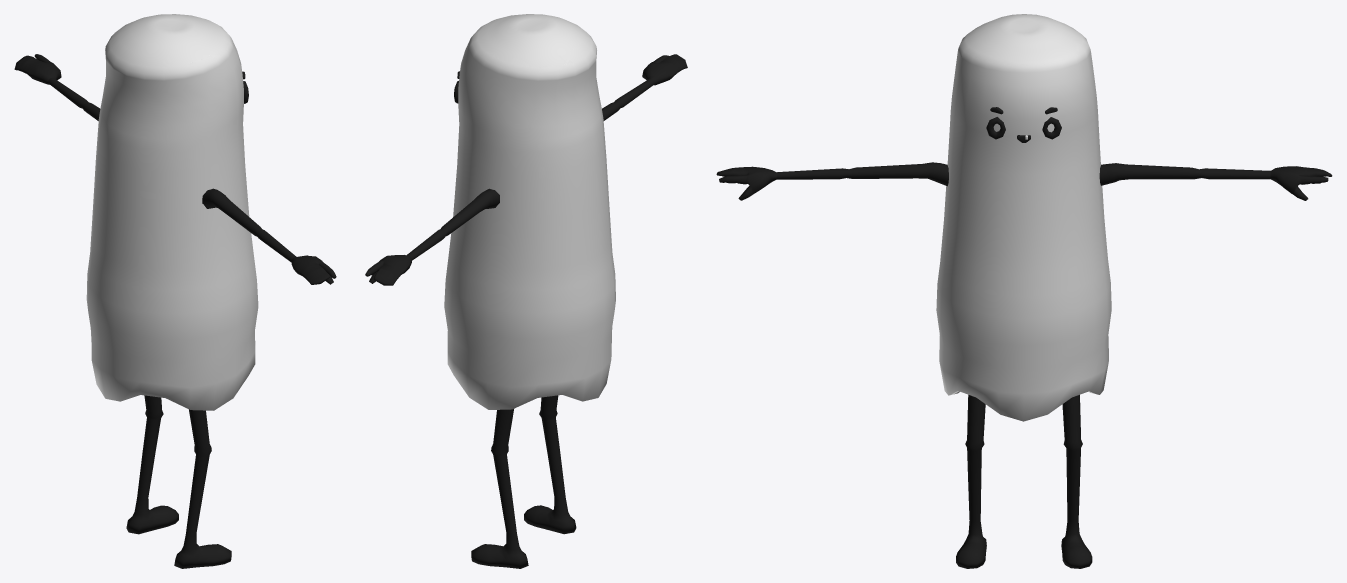
File: polygonal-mind-ghost.glb
3 renders of one model, left to right at view 1: azimuth 30°, elevation 25°; view 2: azimuth 150°, elevation 25°; view 3: azimuth 270°, elevation 25°, orthographic.
Parts seen in each view (by area): view 1: mesh_char_137; view 2: mesh_char_137; view 3: mesh_char_137.
Boxes of the visible parts, x1,y1,x2,y2 form: mesh_char_137: (14, 14, 336, 568); mesh_char_137: (365, 14, 687, 568); mesh_char_137: (716, 14, 1332, 568).
Bounding box in the file's own units: 1.32 × 4.37 × 4.63.
Materials: 1 (1 with a texture image).
